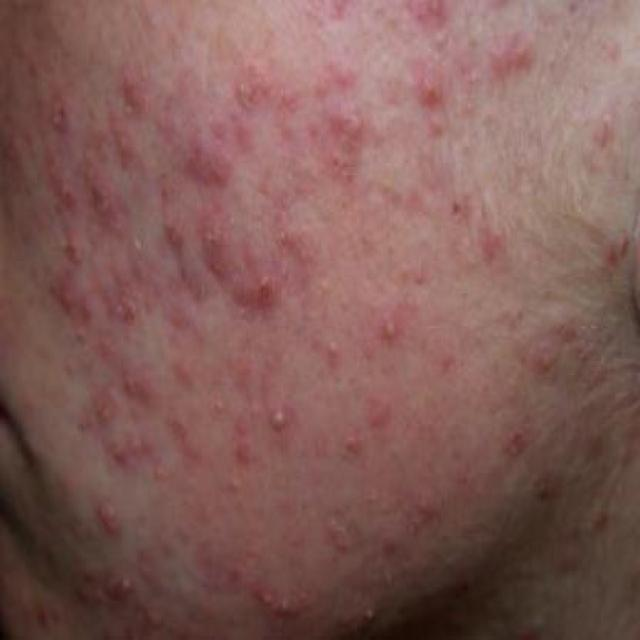papules: (180, 116, 240, 200), (195, 202, 260, 265), (226, 269, 302, 320), (117, 352, 165, 412), (412, 63, 462, 116), (84, 172, 124, 234), (111, 57, 166, 102), (328, 92, 375, 144), (48, 267, 80, 326), (99, 133, 150, 169), (275, 220, 303, 259)
pustules: (102, 560, 149, 612), (265, 577, 312, 626), (260, 392, 303, 444), (369, 304, 414, 346), (321, 332, 354, 365)
